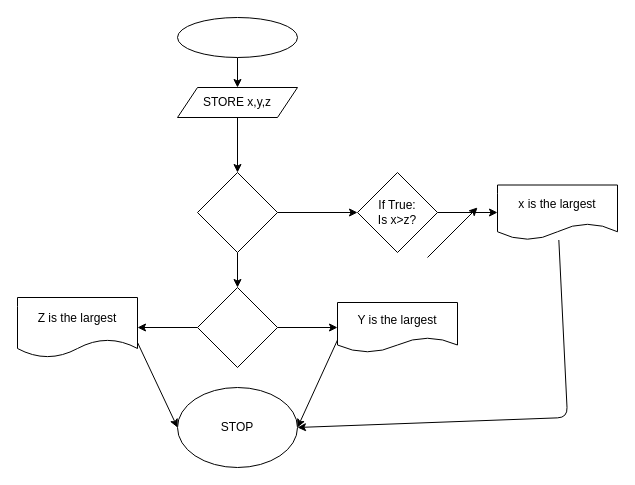
The diagram is 635 pixels wide and 485 high, and some of its shapes have lost their labels. The box of each missing label's shape, as (x1, y1, x2, y2) in pixels:
If false: Is y>z?: (196, 286, 278, 368)
Is x>y?: (196, 172, 278, 252)
START: (176, 16, 298, 58)
